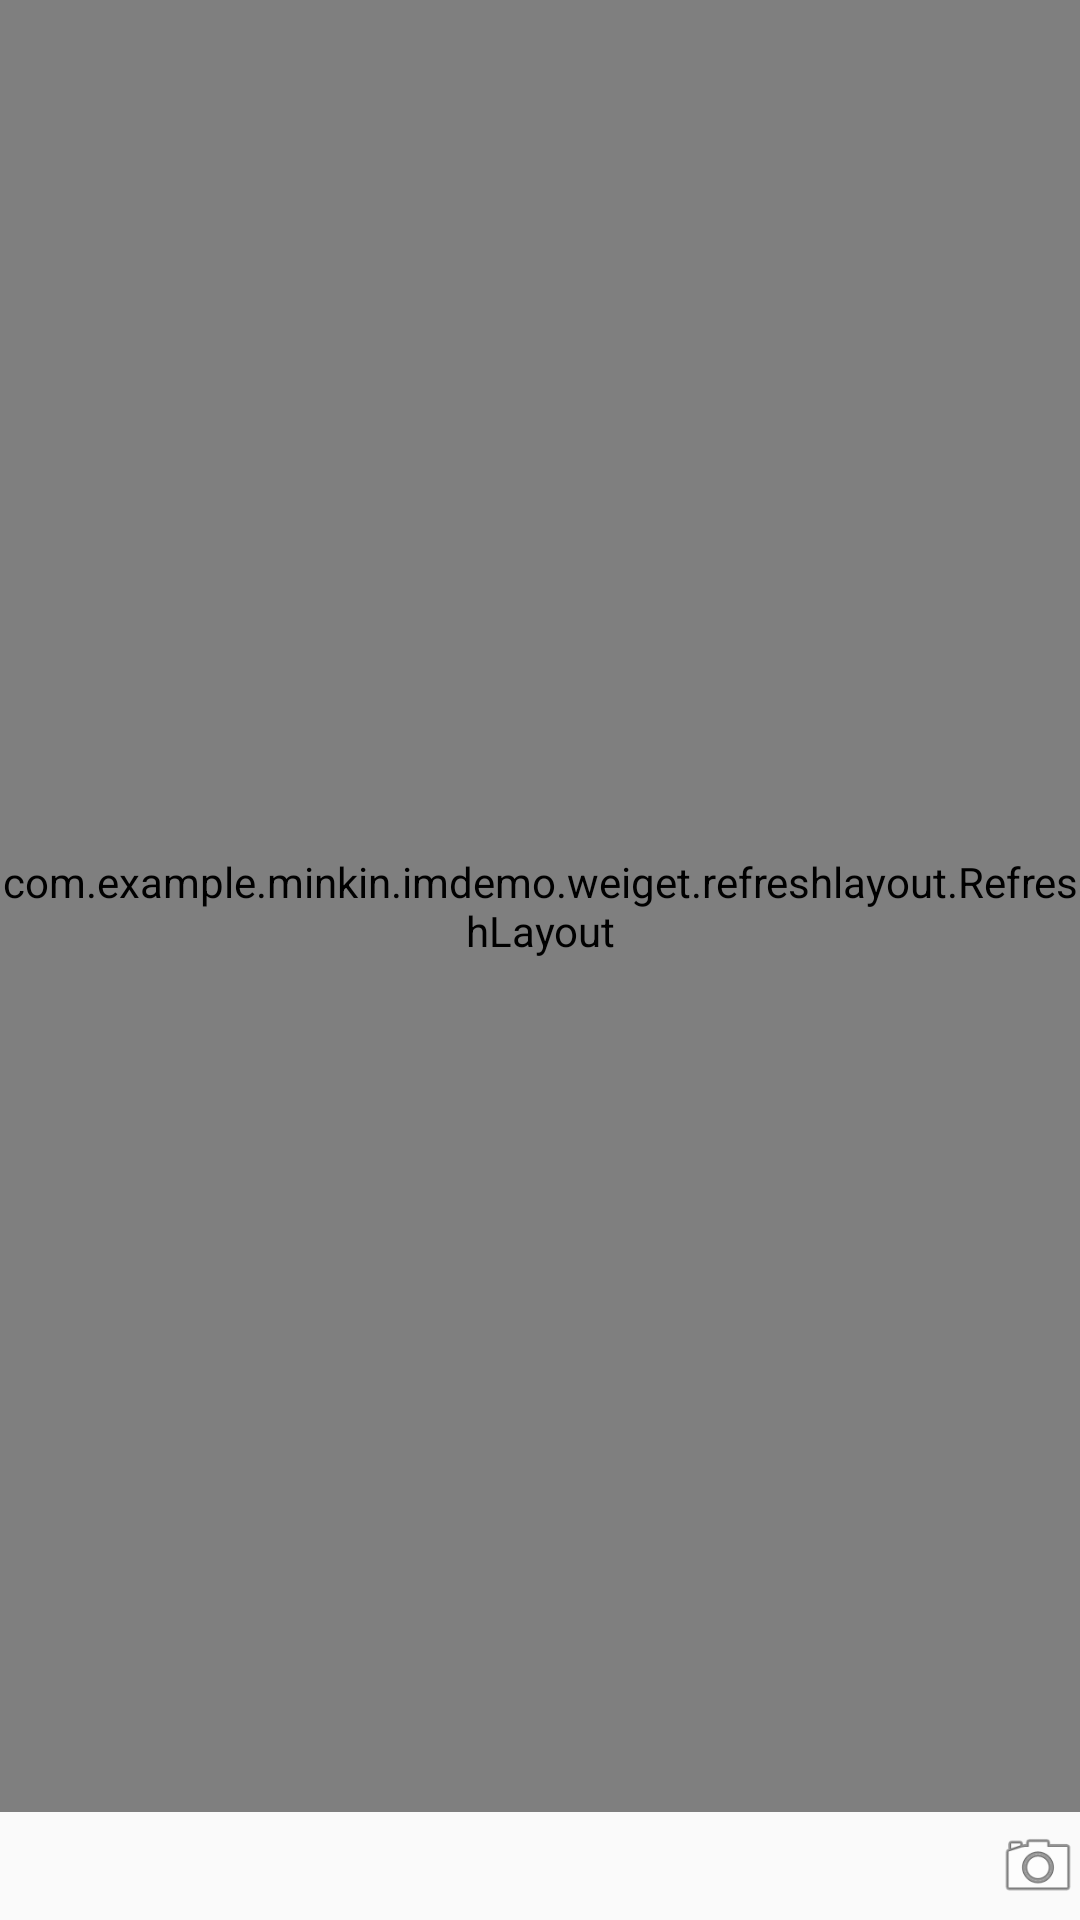

Point at icon controls on the screen. Image size 1080×1920, points as point (x, y).
camera: point (1038, 1865)
